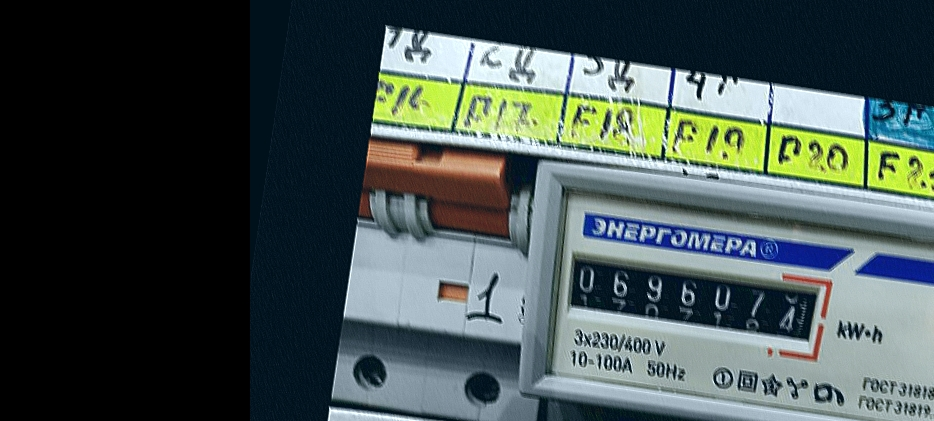0: (575, 262, 598, 293), (710, 281, 733, 310)
4: (776, 302, 798, 333)
6: (609, 267, 631, 297), (677, 276, 699, 306)
7: (744, 286, 768, 318)
9: (643, 272, 664, 303)
screen: (549, 236, 838, 363)
